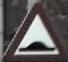Speed Breaker ahead: (7, 5, 59, 58)
